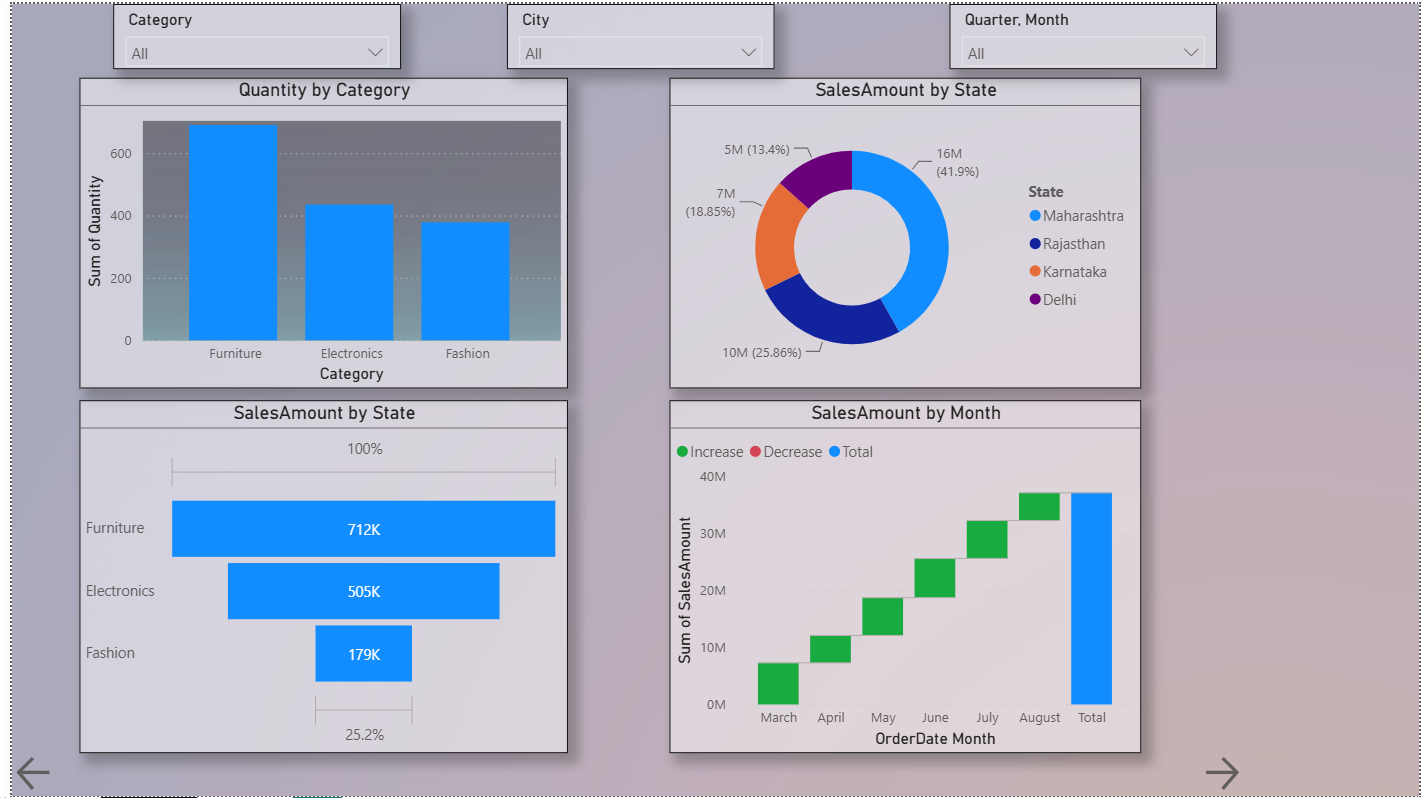

Layout of this report page (visuals, bound fields, positions):
{"tool":"powerbi","page":{"name":"Page 2","canvas":[1280,720],"ordinal":1},"visuals":[{"type":"columnChart","title":"Quantity by Category","fields":{"Y":["Sum(Orders.Quantity)"],"Category":["Products.Category"]},"box":[61.5,67,444,282.4],"z":0},{"type":"donutChart","title":"SalesAmount by State","fields":{"Y":["Sum(Orders.SalesAmount)"],"Category":["Customers.State"]},"box":[597.8,67,428.6,282.4],"z":1000},{"type":"funnel","title":"SalesAmount by State","fields":{"Category":["Products.Category"],"Y":["Sum(Returns.ReturnAmount)"]},"box":[61.5,360.4,444,320.9],"z":2000},{"type":"waterfallChart","title":"SalesAmount by Month","fields":{"Y":["Sum(Orders.SalesAmount)"],"Category":["Orders.OrderDate.Variation.Date Hierarchy.Year","Orders.OrderDate.Variation.Date Hierarchy.Quarter","Orders.OrderDate.Variation.Date Hierarchy.Month","Orders.OrderDate.Variation.Date Hierarchy.Day"]},"box":[597.8,360.4,428.6,320.9],"z":3000},{"type":"slicer","fields":{"Values":["Products.Category"]},"box":[92.3,0,261.5,59.3],"z":3001},{"type":"slicer","fields":{"Values":["Customers.City"]},"box":[450.5,0,242.9,59.3],"z":3002},{"type":"slicer","fields":{"Values":["Orders.OrderDate.Variation.Date Hierarchy.Quarter","Orders.OrderDate.Variation.Date Hierarchy.Month"]},"box":[852.7,0,242.9,59.3],"z":3003},{"type":"actionButton","box":[1080,680,100,40],"z":3004},{"type":"actionButton","box":[0,680,100,40],"z":3005}]}

Visuals, with their boxes in screenshot pixels (x1, y1, x2, y2), scaled from the page's 1280x720 canvas onto the 1422x798 screenshot:
"Quantity by Category" columnChart: [x1=68, y1=74, x2=562, y2=387]
"SalesAmount by State" donutChart: [x1=664, y1=74, x2=1140, y2=387]
"SalesAmount by State" funnel: [x1=68, y1=399, x2=562, y2=755]
"SalesAmount by Month" waterfallChart: [x1=664, y1=399, x2=1140, y2=755]
slicer - Products.Category: [x1=103, y1=0, x2=393, y2=66]
slicer - Customers.City: [x1=500, y1=0, x2=770, y2=66]
slicer - Orders.OrderDate.Variation.Date Hierarchy.Quarter x Orders.OrderDate.Variation.Date Hierarchy.Month: [x1=947, y1=0, x2=1217, y2=66]
actionButton: [x1=1200, y1=754, x2=1311, y2=797]
actionButton: [x1=0, y1=754, x2=111, y2=797]
